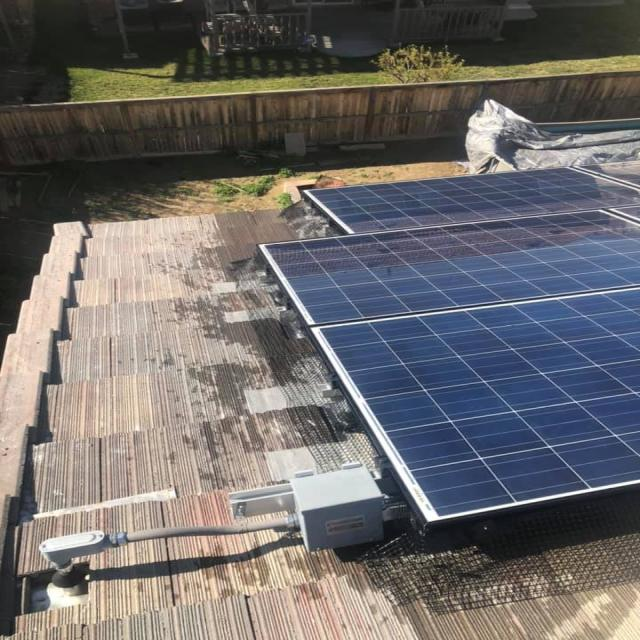clean-solar-panel: (262, 208, 638, 522), (305, 168, 640, 234)
